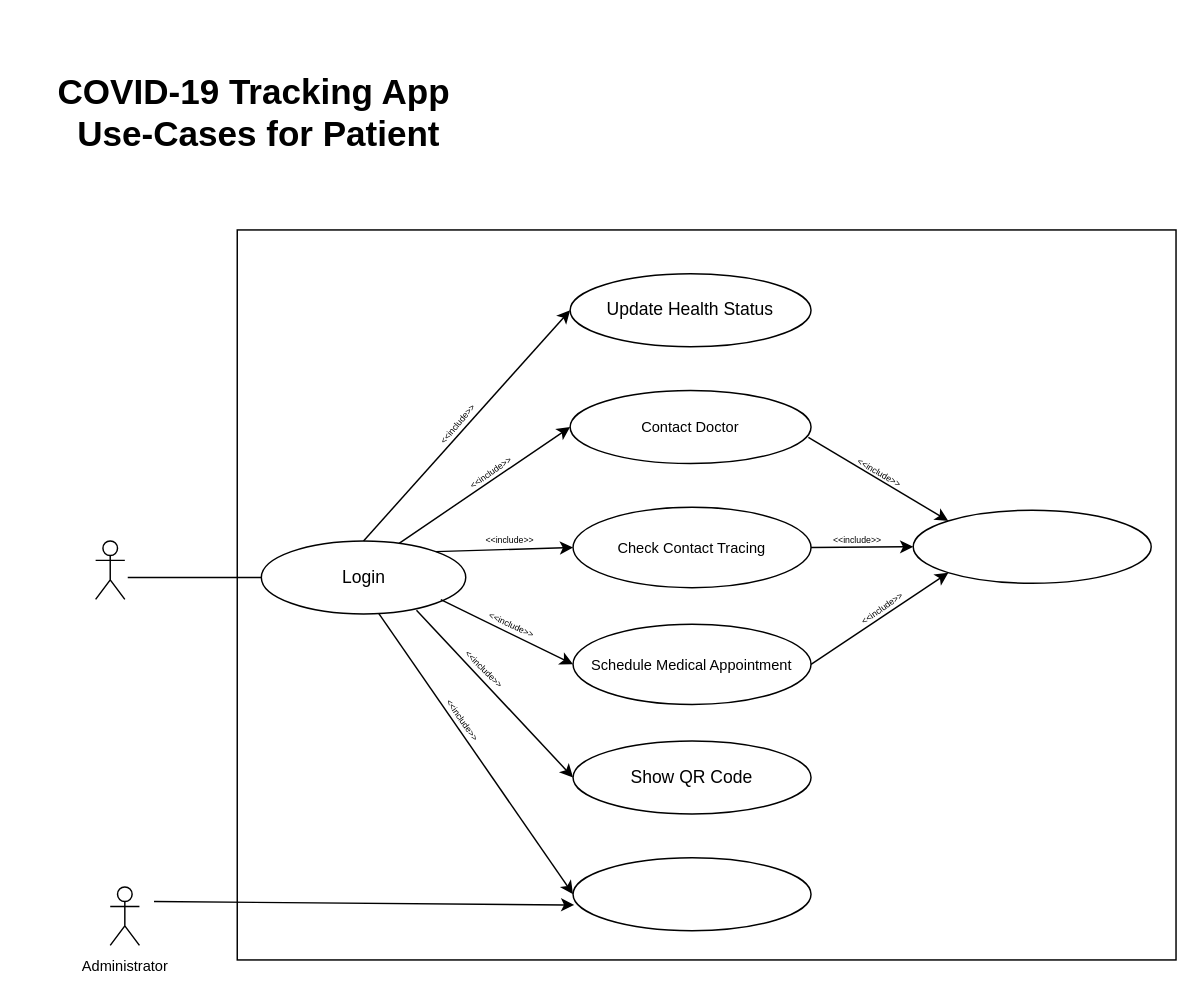
The diagram is 1202 pixels wide and 1000 high, and some of its shapes have lost their labels. The shapes that lost their labels are listed below. From the top down, each one's centre as x and y in pixels, then its label:
(x=1031, y=546): Receive Notification
(x=109, y=569): Patient
(x=691, y=893): Modify Account
